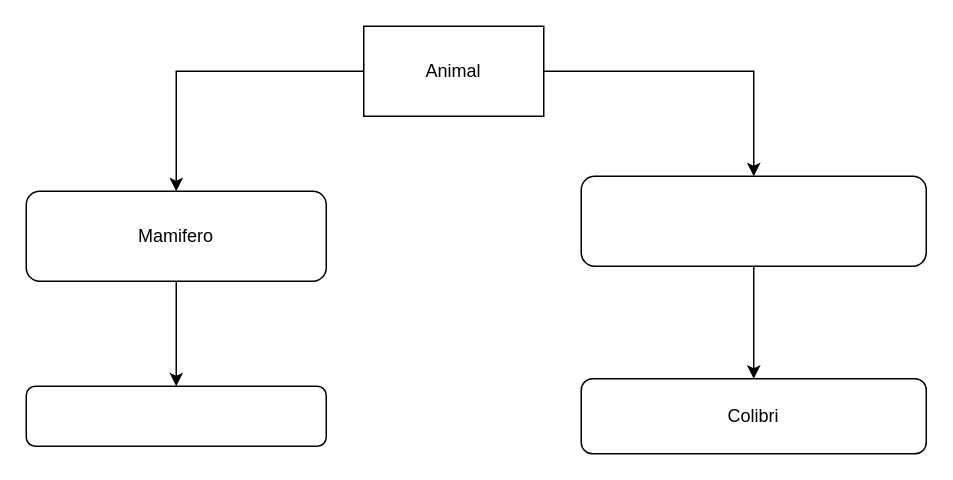
This 953x480 diagram has some shape labels left out. Each missing label, with the centre of its shape:
Ardilla: (175,415)
Ave: (753,220)
